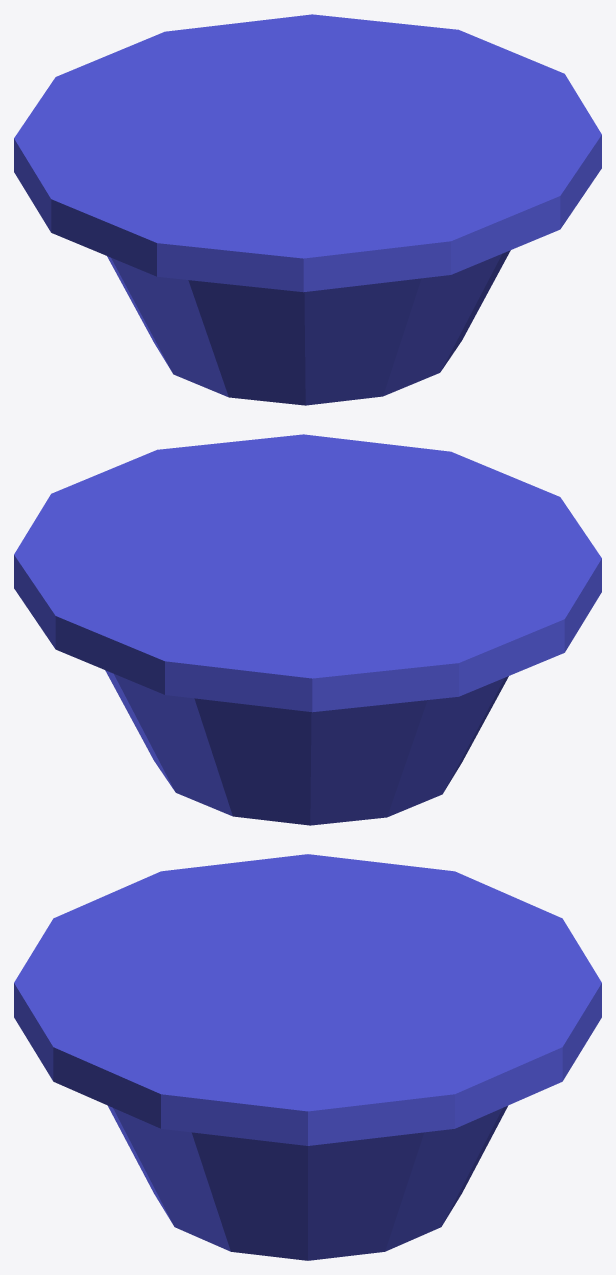
Rendered from r01_cup.glb.
3 views of the same model, one above another, from view 1: azimuth 30°, elevation 25°; view 2: azimuth 150°, elevation 25°; view 3: azimuth 270°, elevation 25° (orthographic). The views are drawn at different scales.
Visible parts, largest first — view 1: Circle; view 2: Circle; view 3: Circle.
Boxes of the visible parts, bbox=[...] form: Circle: bbox=[14, 14, 601, 405]; Circle: bbox=[14, 434, 601, 825]; Circle: bbox=[14, 854, 601, 1260].
Size of the model in its own units: 100 by 38.18 by 96.59.
